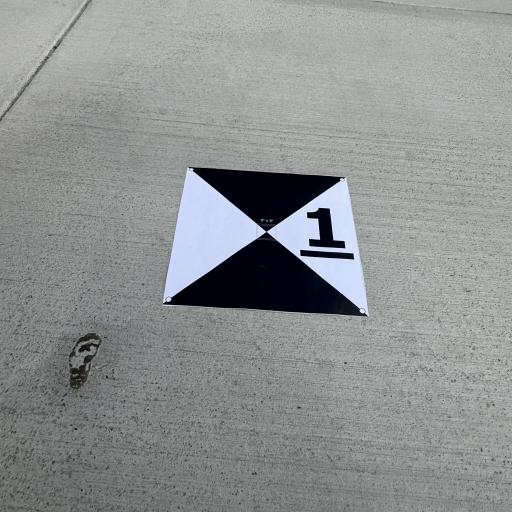target1: (159, 159, 376, 327)
